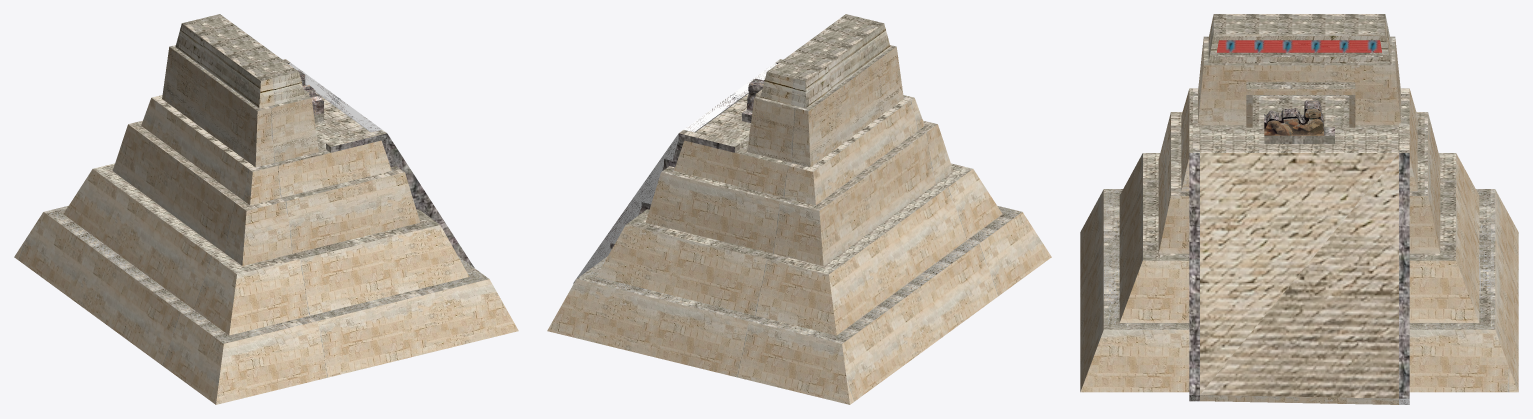
The picture shows the model from 3 angles, left to right: view 1: azimuth 30°, elevation 25°; view 2: azimuth 150°, elevation 25°; view 3: azimuth 270°, elevation 25°; orthographic projection. The views are drawn at different scales.
Parts seen in each view (by area): view 1: SketchUp (×15); view 2: SketchUp (×14); view 3: SketchUp (×23).
Part boxes in pixels (x1,y1,x2,y2): SketchUp (×15): (14, 14, 518, 404); SketchUp (×14): (547, 14, 1051, 404); SketchUp (×23): (1080, 14, 1518, 404).
Size of the model in its own units: 692 by 741 by 512.
